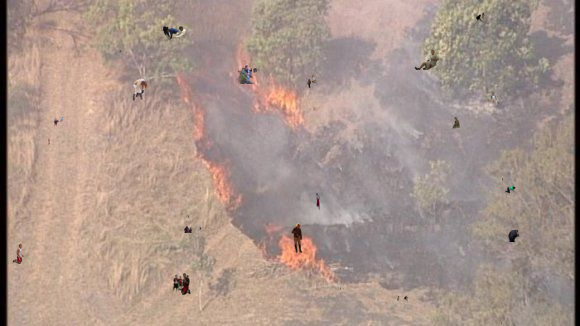Human: (414, 50, 439, 70), (233, 65, 259, 84), (158, 26, 186, 42), (172, 273, 191, 295), (132, 78, 148, 101), (291, 223, 303, 253), (12, 244, 24, 264), (476, 13, 493, 24), (505, 185, 520, 195), (508, 230, 520, 242), (53, 117, 65, 128), (490, 92, 500, 104), (451, 117, 460, 130), (397, 294, 408, 304), (316, 193, 320, 210), (199, 226, 212, 231), (184, 226, 192, 233), (312, 75, 317, 83), (307, 79, 311, 88), (48, 138, 50, 145), (313, 107, 316, 111), (340, 287, 344, 290), (119, 50, 121, 53), (188, 215, 189, 220), (484, 97, 485, 101), (501, 322, 502, 325), (502, 178, 503, 181), (226, 306, 227, 308)
